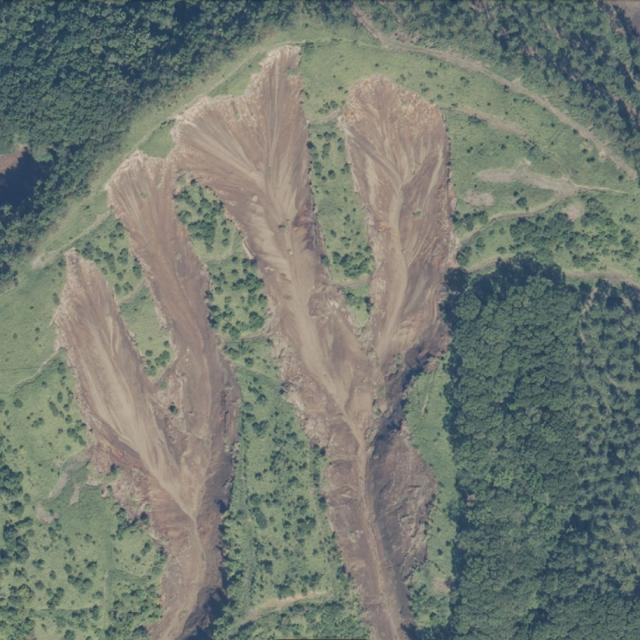landslide: (53, 46, 458, 640)
